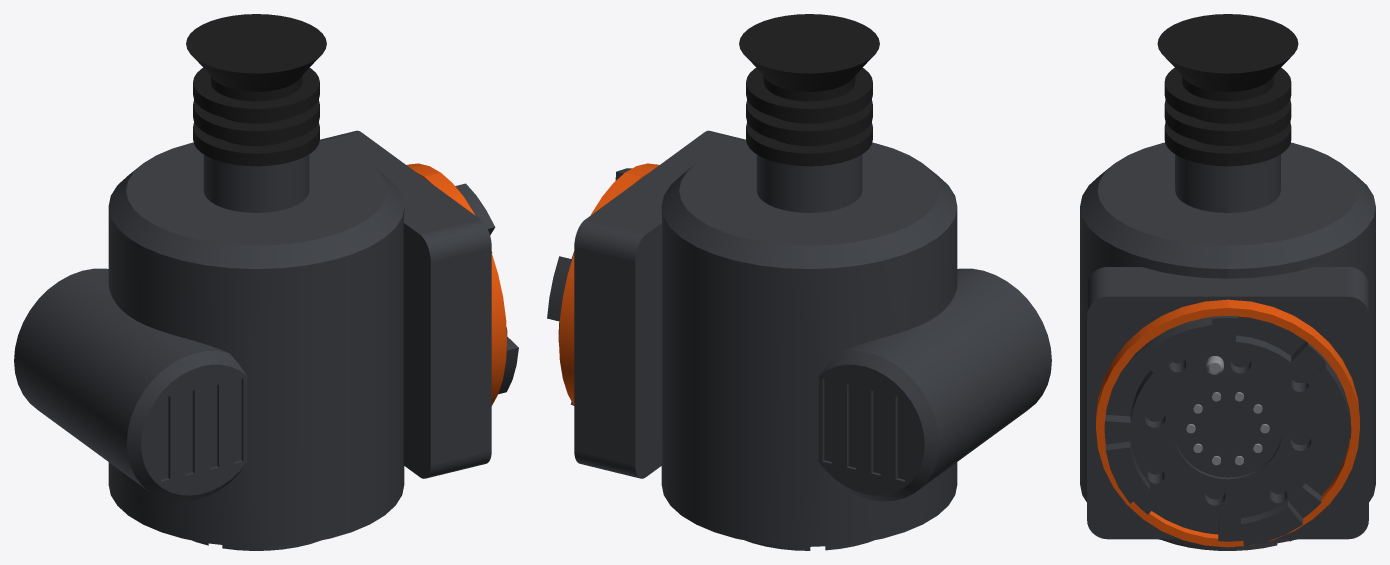
Rendered from module_suction.glb.
The picture shows the model from 3 angles, left to right: view 1: azimuth 30°, elevation 25°; view 2: azimuth 150°, elevation 25°; view 3: azimuth 270°, elevation 25°; orthographic projection.
Parts seen in each view (by area): view 1: suction_body, suction_cup, suction_neck, suction_port_aux_ring, suction_port_aux_flange; view 2: suction_body, suction_cup, suction_neck, suction_port_aux_ring, suction_port_aux_flange; view 3: suction_body, suction_port_aux_flange, suction_cup, suction_port_aux_ring, suction_neck, suction_port_aux_pads, suction_iso_plate.
Part boxes in pixels (x1=…): suction_body: x1=14, y1=130, x2=491, y2=546; suction_cup: x1=186, y1=14, x2=326, y2=166; suction_neck: x1=203, y1=154, x2=309, y2=212; suction_port_aux_ring: x1=406, y1=163, x2=506, y2=405; suction_port_aux_flange: x1=455, y1=183, x2=518, y2=394; suction_body: x1=574, y1=130, x2=1051, y2=546; suction_cup: x1=739, y1=14, x2=879, y2=166; suction_neck: x1=756, y1=154, x2=862, y2=212; suction_port_aux_ring: x1=559, y1=163, x2=659, y2=405; suction_port_aux_flange: x1=547, y1=168, x2=631, y2=405; suction_body: x1=1080, y1=142, x2=1375, y2=546; suction_port_aux_flange: x1=1104, y1=316, x2=1351, y2=546; suction_cup: x1=1157, y1=14, x2=1298, y2=166; suction_port_aux_ring: x1=1096, y1=299, x2=1359, y2=547; suction_neck: x1=1175, y1=154, x2=1280, y2=212; suction_port_aux_pads: x1=1186, y1=392, x2=1269, y2=465; suction_iso_plate: x1=1163, y1=540, x2=1291, y2=550.
Size of the model in its own units: 0.127 by 0.146 by 0.084.
